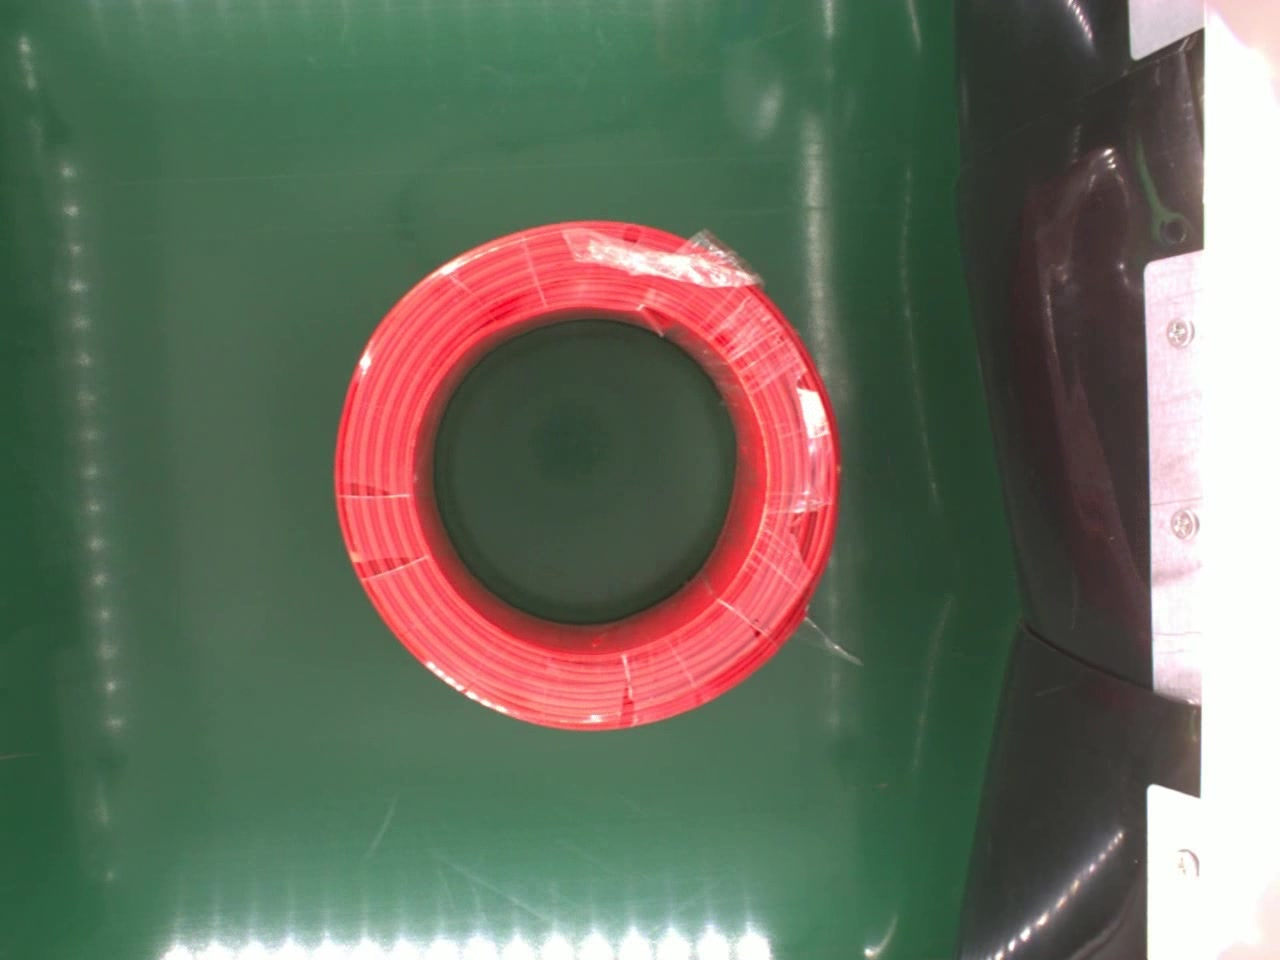red: (328, 218, 850, 741)
